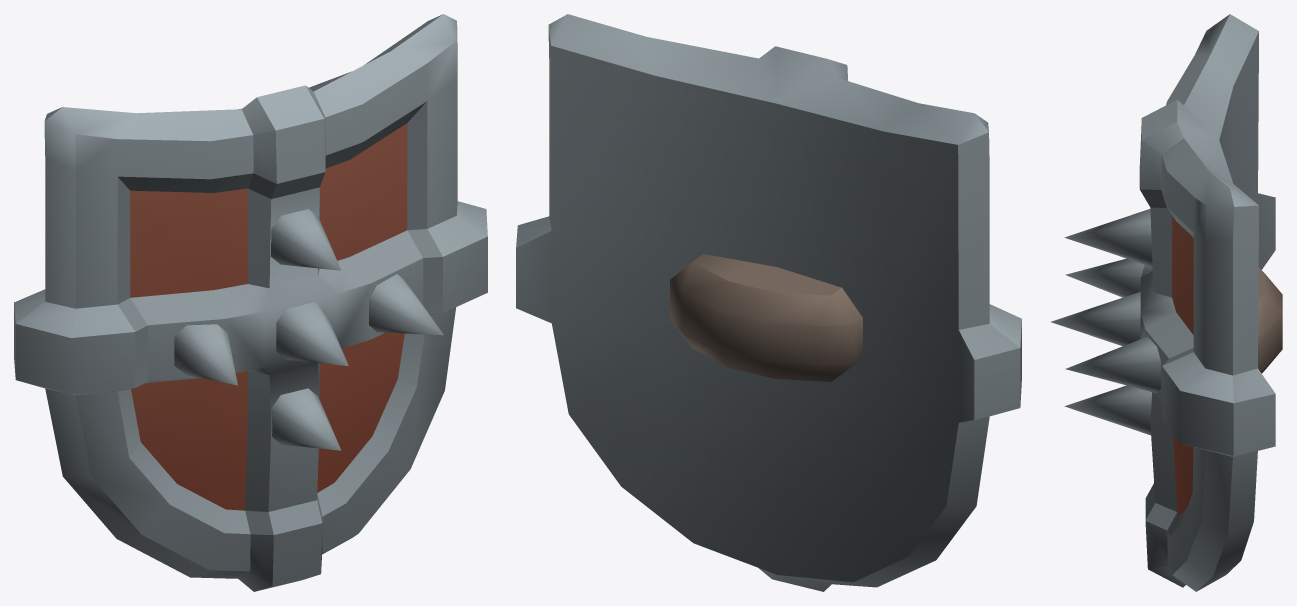
Rendered from kaykit-shield-spikes.glb.
3 views of the same model, side by side, from view 1: azimuth 30°, elevation 25°; view 2: azimuth 150°, elevation 25°; view 3: azimuth 270°, elevation 25° (orthographic). The views are drawn at different scales.
Parts seen in each view (by area): view 1: kaykit-shield-spikes; view 2: kaykit-shield-spikes; view 3: kaykit-shield-spikes.
Part boxes in pixels (x1,y1,x2,y2): kaykit-shield-spikes: (14,14,487,591); kaykit-shield-spikes: (516,14,1021,591); kaykit-shield-spikes: (1051,14,1282,591).
Size of the model in its own units: 0.7553 by 0.7777 by 0.3448.
1 material, 1 textured.
